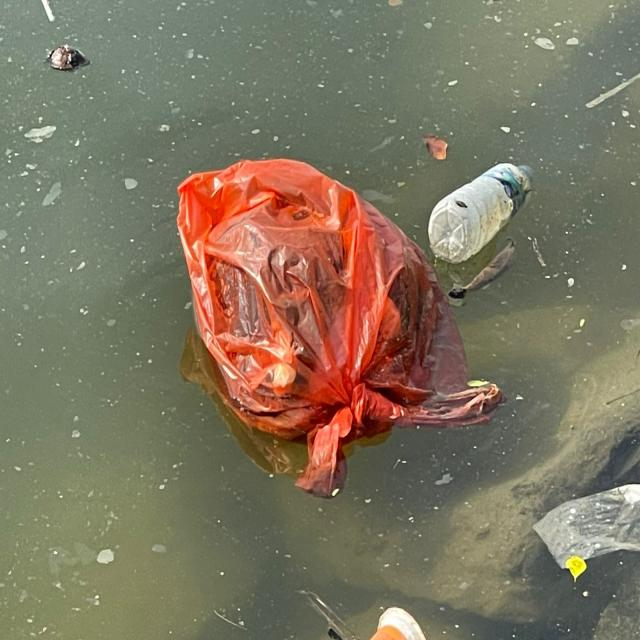Botol Plastik: (427, 140, 541, 270)
Kantong Plastik: (169, 152, 504, 499)
